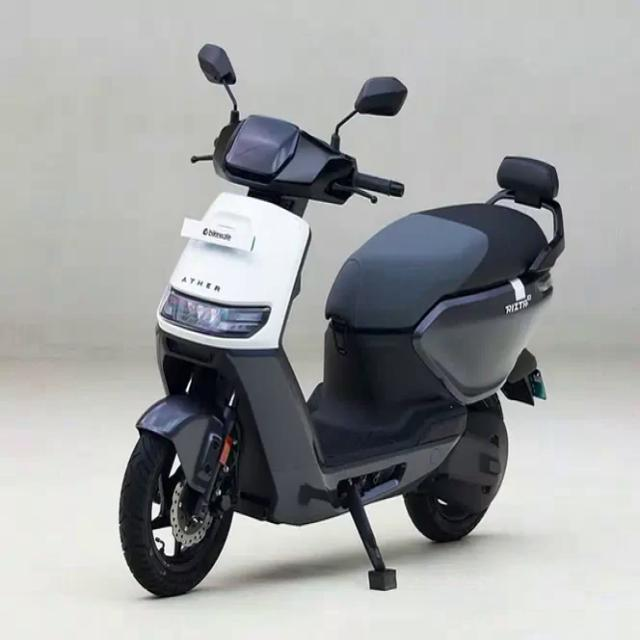objects: (110, 18, 574, 626)
